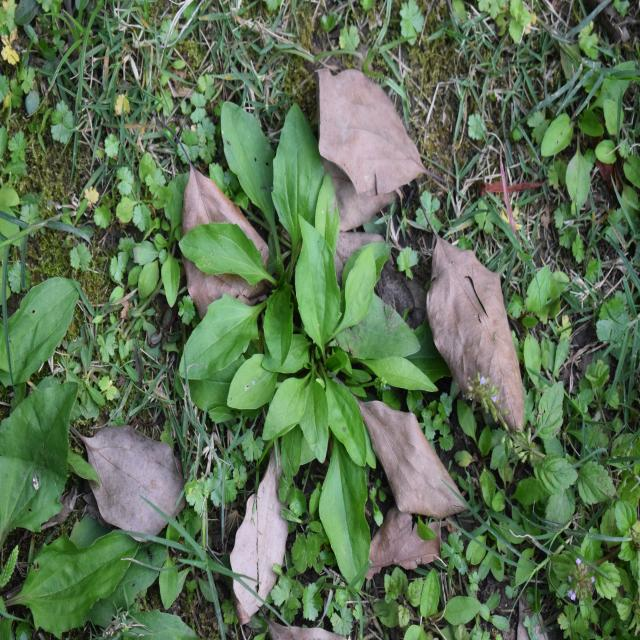plantain: (190, 142, 434, 538)
